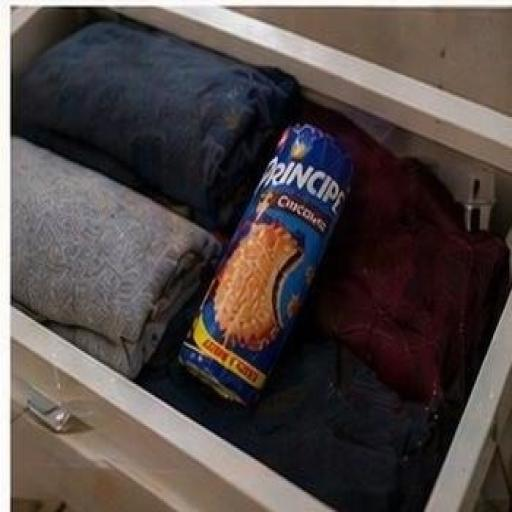prince: (154, 88, 437, 469)
